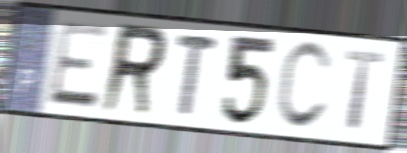5: (219, 33, 281, 129)
C: (273, 39, 334, 134)
E: (45, 19, 112, 111)
R: (97, 20, 170, 119)
T: (174, 30, 220, 119), (344, 47, 387, 135)
